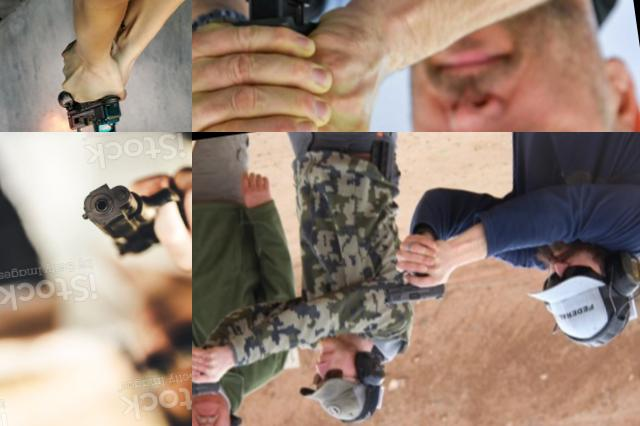handgun: (192, 0, 358, 132), (67, 161, 192, 264), (47, 33, 127, 132), (375, 254, 447, 310), (192, 340, 225, 401)
